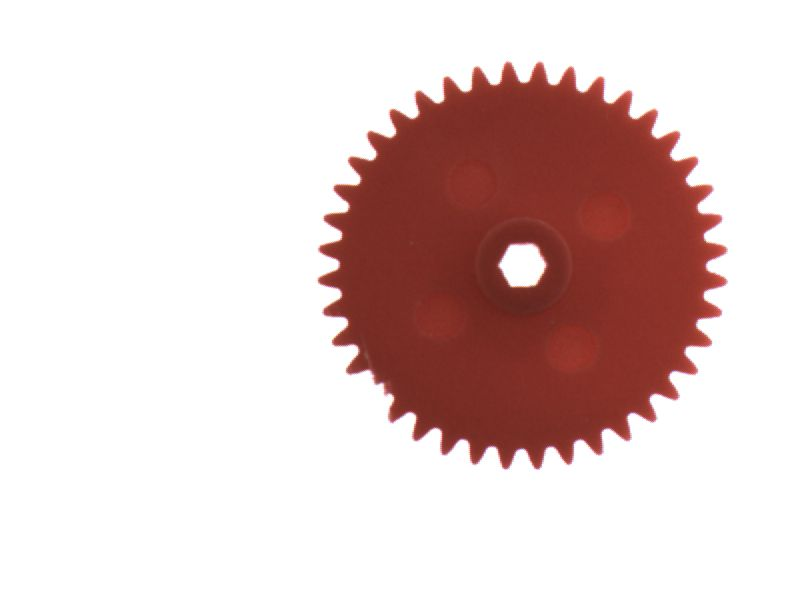defect_lack: (323, 360, 403, 422)
